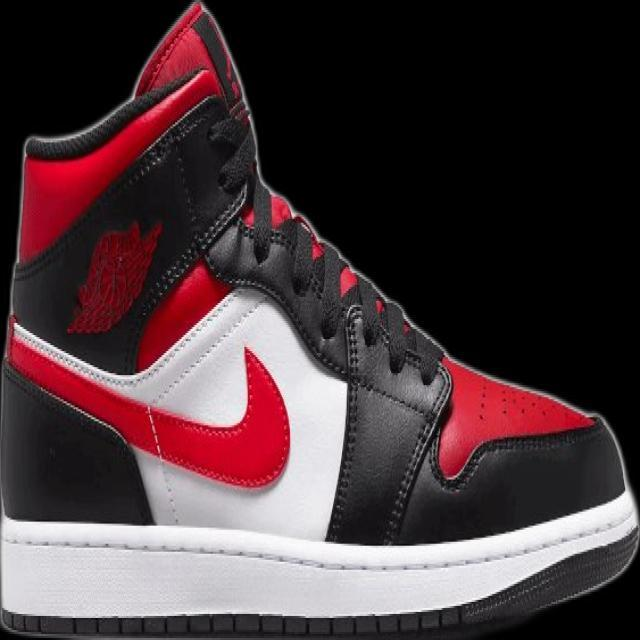J1_InsoleChar: (0, 0, 639, 639)
J1_ShoeLogo: (64, 215, 164, 336)
J1_StitchPattern: (0, 515, 638, 638), (142, 183, 444, 389), (324, 298, 452, 544), (274, 210, 440, 386), (6, 289, 262, 397), (129, 180, 251, 329), (2, 608, 472, 639), (378, 361, 454, 545), (142, 288, 263, 401), (336, 295, 446, 413), (276, 214, 362, 339), (324, 300, 368, 543)
